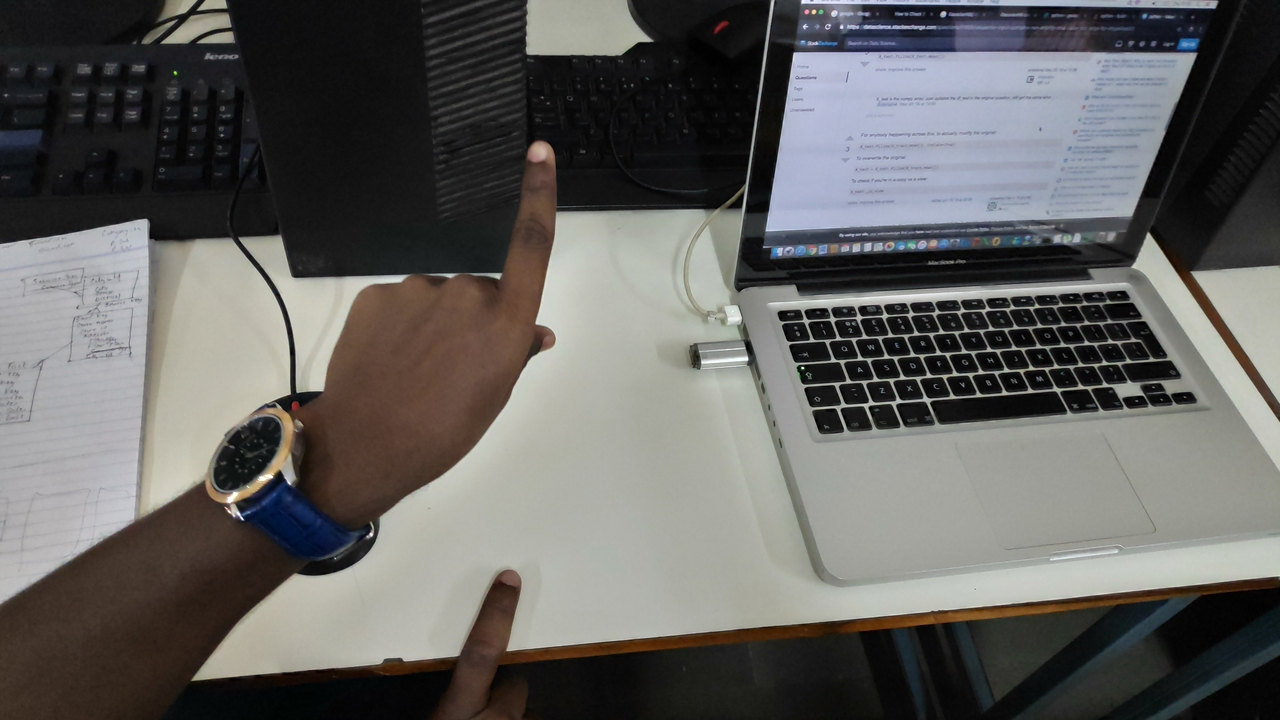fingertip: (516, 130, 562, 174)
